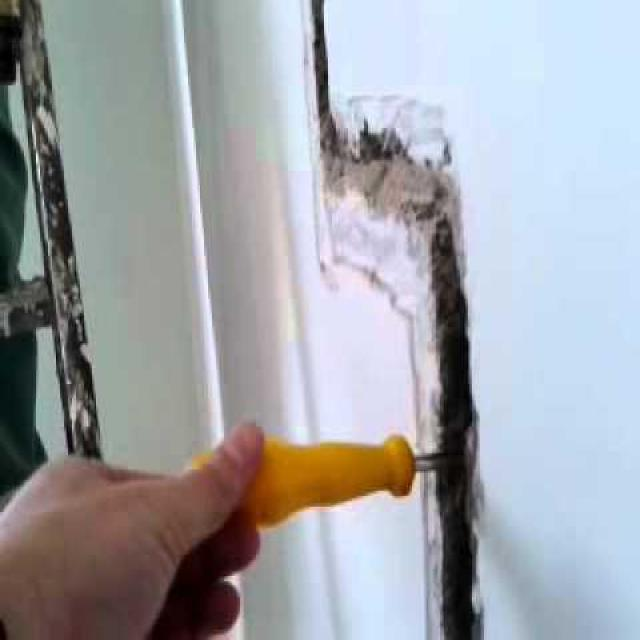crack: (310, 0, 482, 638)
